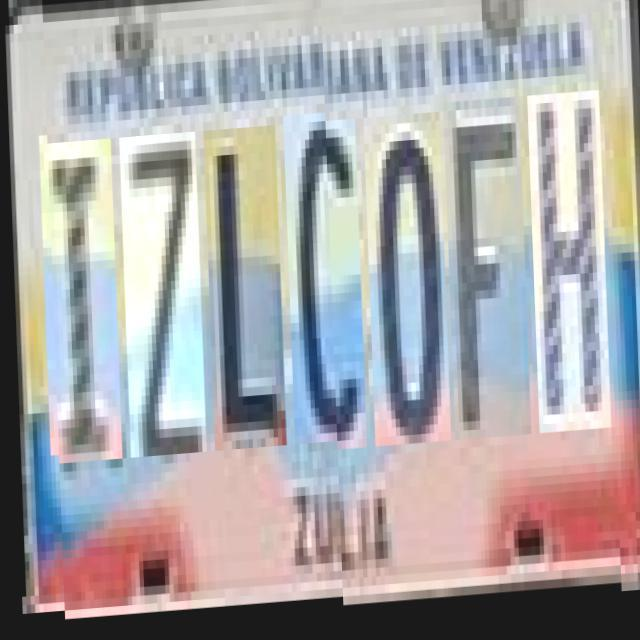C: (282, 116, 363, 449)
F: (442, 97, 528, 439)
H: (526, 91, 607, 434)
I: (38, 140, 119, 465)
L: (202, 130, 283, 454)
O: (362, 110, 448, 443)
Z: (118, 135, 203, 460)
